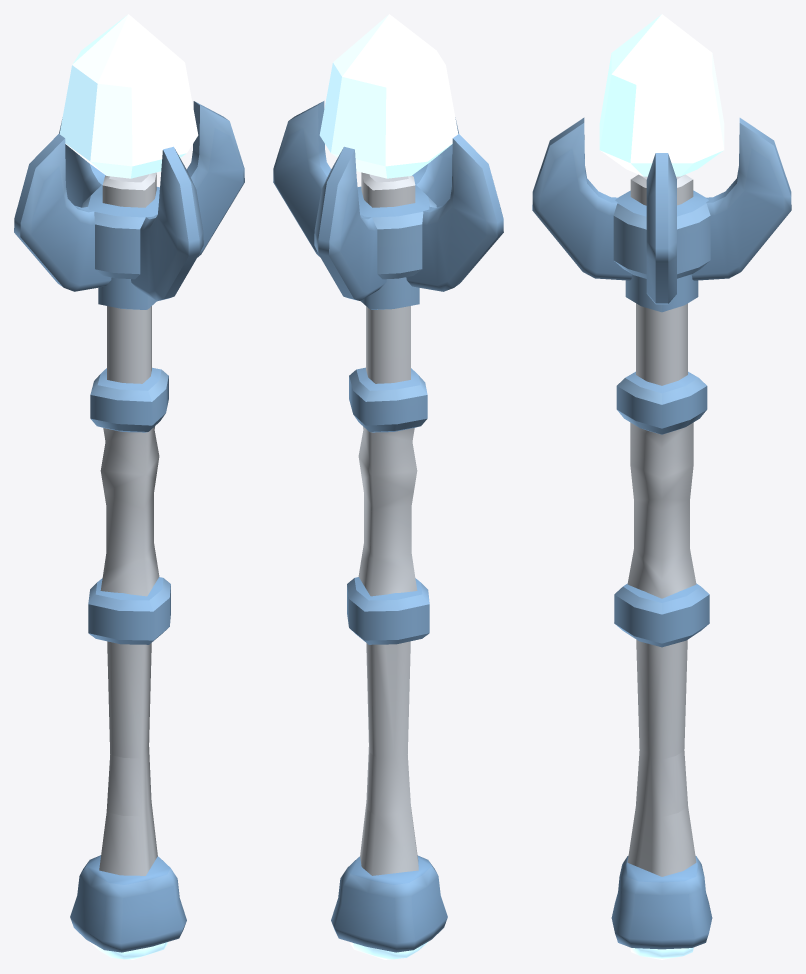
The model's file is staff_ice_common.glb.
The picture shows the model from 3 angles, left to right: view 1: azimuth 30°, elevation 25°; view 2: azimuth 150°, elevation 25°; view 3: azimuth 270°, elevation 25°; orthographic projection.
Visible parts, largest first — view 1: staff_ice_common; view 2: staff_ice_common; view 3: staff_ice_common.
Boxes of the visible parts, x1,y1,x2,y2 form: staff_ice_common: (14, 14, 244, 959); staff_ice_common: (273, 14, 503, 959); staff_ice_common: (532, 14, 791, 959).
Size of the model in its own units: 50.85 by 204 by 50.85.
3 materials, 2 textured.
